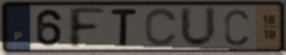6: (34, 7, 64, 48)
C: (144, 7, 179, 48), (222, 7, 250, 47)
F: (65, 5, 107, 50)
T: (109, 7, 139, 48)
U: (178, 5, 219, 50)
